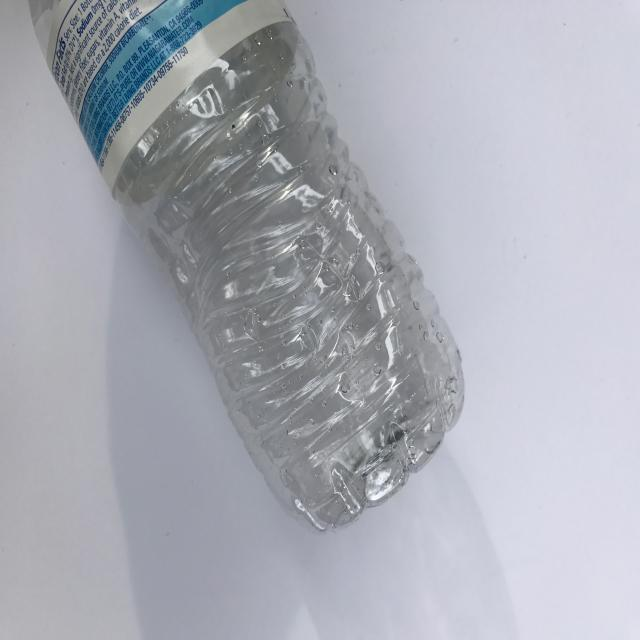plastic: (27, 1, 466, 536)
